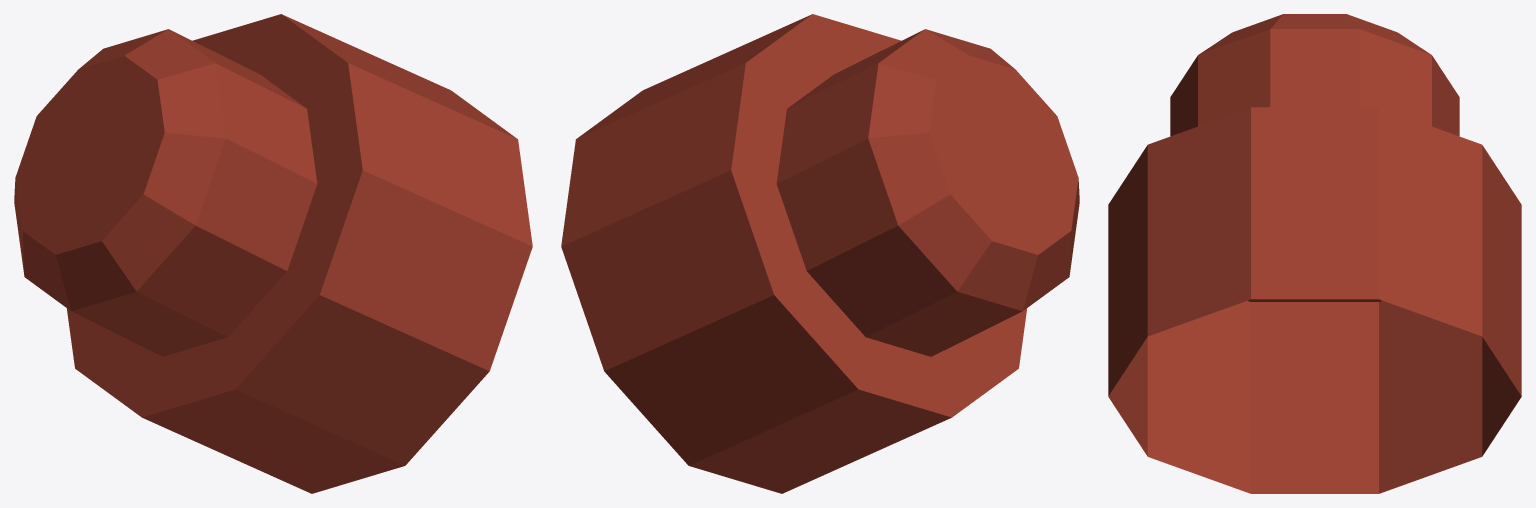
File: Dropship_03_Detail_01_Red.fbx
3 renders of one model, left to right at view 1: azimuth 30°, elevation 25°; view 2: azimuth 150°, elevation 25°; view 3: azimuth 270°, elevation 25°, orthographic. The views are drawn at different scales.
Visible parts, largest first — view 1: Dropship_03_Detail_01_Red; view 2: Dropship_03_Detail_01_Red; view 3: Dropship_03_Detail_01_Red.
Part boxes in pixels (x1,y1,x2,y2): Dropship_03_Detail_01_Red: [14, 14, 532, 493]; Dropship_03_Detail_01_Red: [561, 14, 1079, 493]; Dropship_03_Detail_01_Red: [1108, 14, 1521, 493].
Bounding box in the file's own units: 33.83 × 32.25 × 28.46.
1 material, 1 textured.
